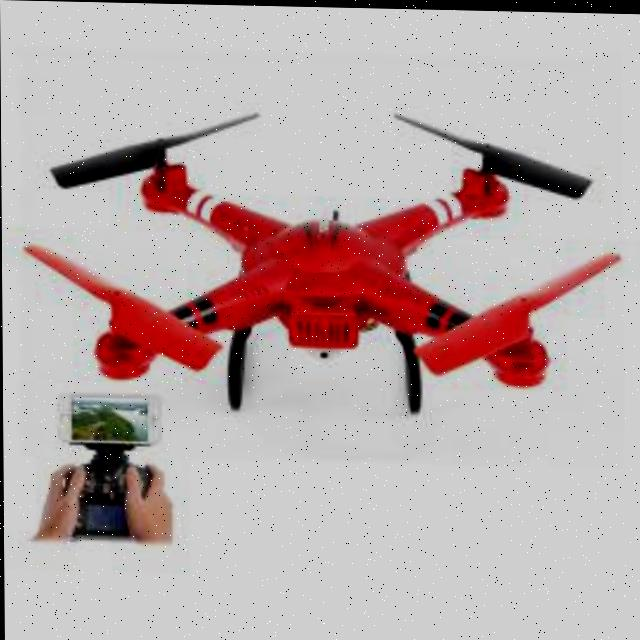drone: (21, 42, 635, 439)
